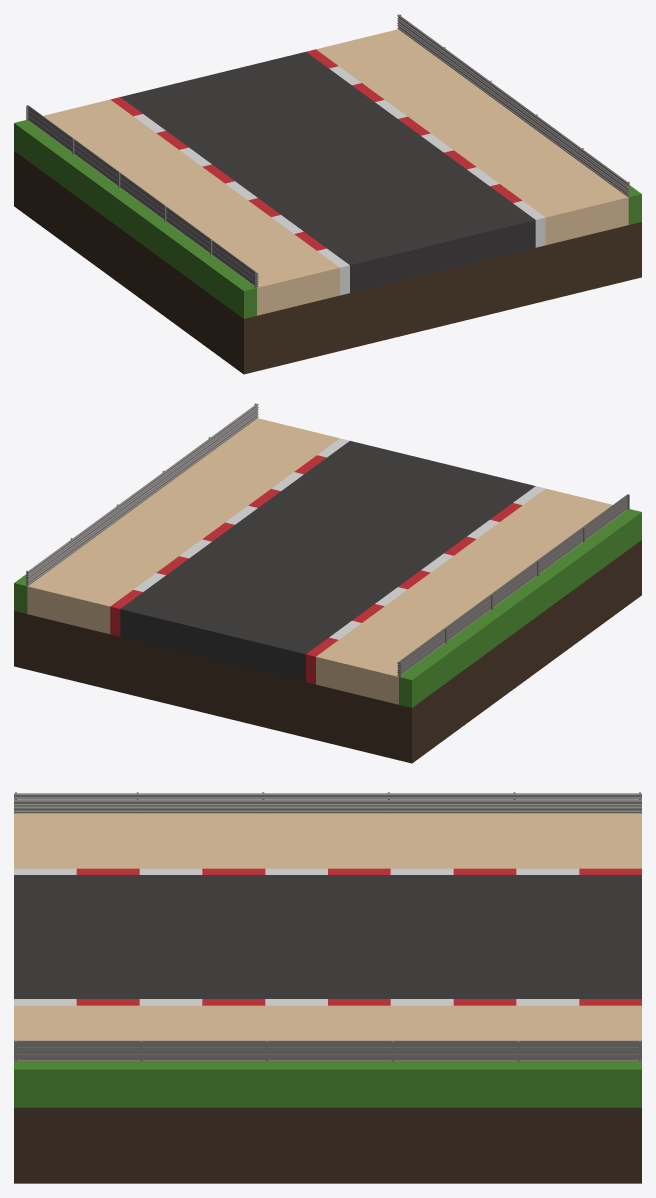
Rendered from tiles_tile-race-track-straight-curbs-sand.fbx.
3 views of the same model, one above another, from view 1: azimuth 30°, elevation 25°; view 2: azimuth 150°, elevation 25°; view 3: azimuth 270°, elevation 25° (orthographic). The views are drawn at different scales.
Visible parts, largest first — view 1: tiles_tile_race_track_straight_curbs_sand; view 2: tiles_tile_race_track_straight_curbs_sand; view 3: tiles_tile_race_track_straight_curbs_sand.
Boxes of the visible parts, bbox=[...] form: tiles_tile_race_track_straight_curbs_sand: bbox=[14, 14, 641, 374]; tiles_tile_race_track_straight_curbs_sand: bbox=[14, 403, 641, 763]; tiles_tile_race_track_straight_curbs_sand: bbox=[14, 792, 641, 1183].
Bounding box in the file's own units: 200 × 47 × 200.
